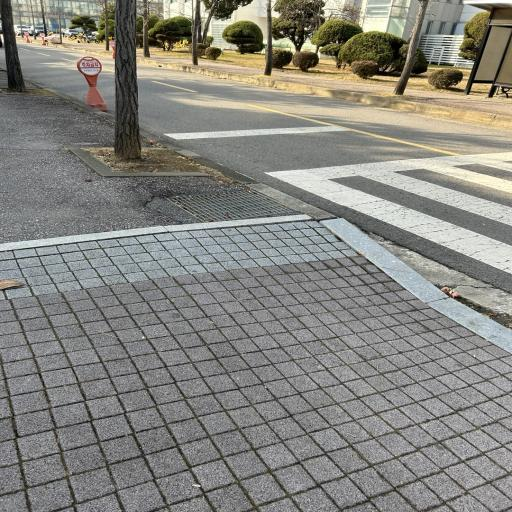drain: (165, 189, 297, 222)
